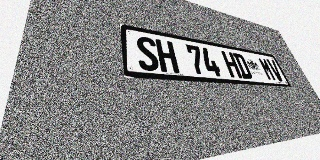4: (199, 47, 222, 77)
7: (185, 44, 208, 76)
D: (232, 53, 253, 79)
H: (155, 39, 180, 73), (221, 51, 243, 78)
M: (257, 57, 277, 81)
S: (135, 35, 160, 72)
V: (266, 59, 285, 82)
